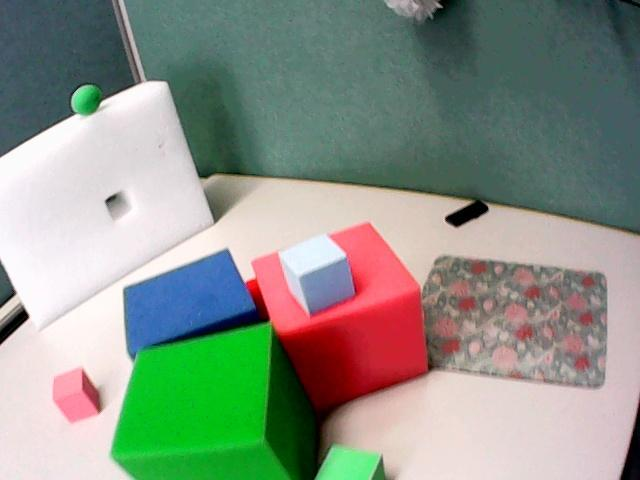blue_block: (124, 250, 259, 357), (279, 235, 354, 313)
red_block: (252, 223, 426, 414), (53, 368, 99, 421), (245, 278, 267, 319)
